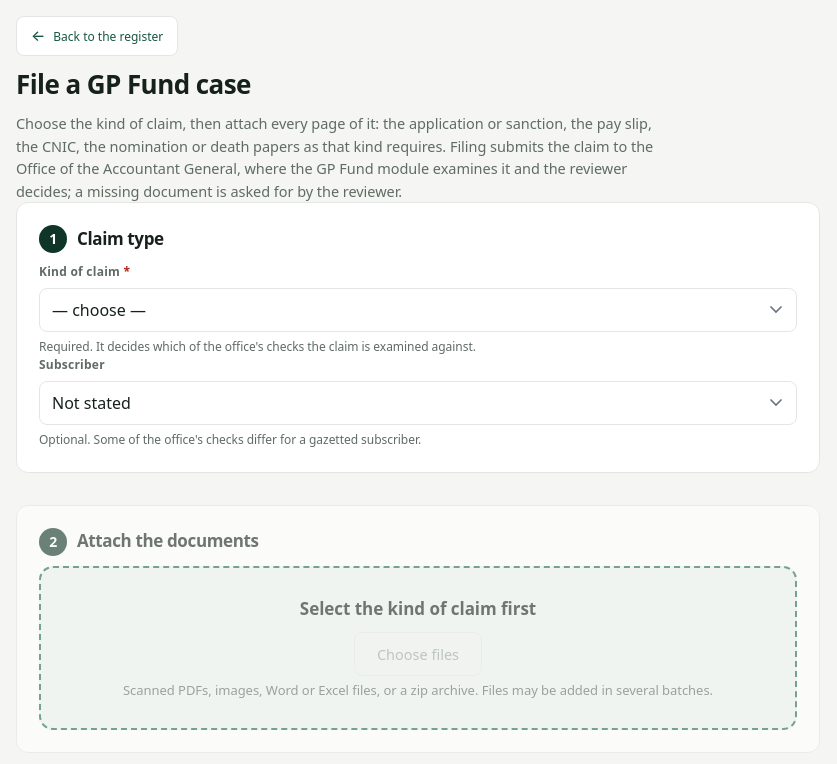
choosing the kind shows what the office checks it for › the list follows the subscriber, where the papers differ
Select "Missing credits" in the dropdown labelled "Kind of claim *" at [418, 310], box [39, 288, 797, 332]
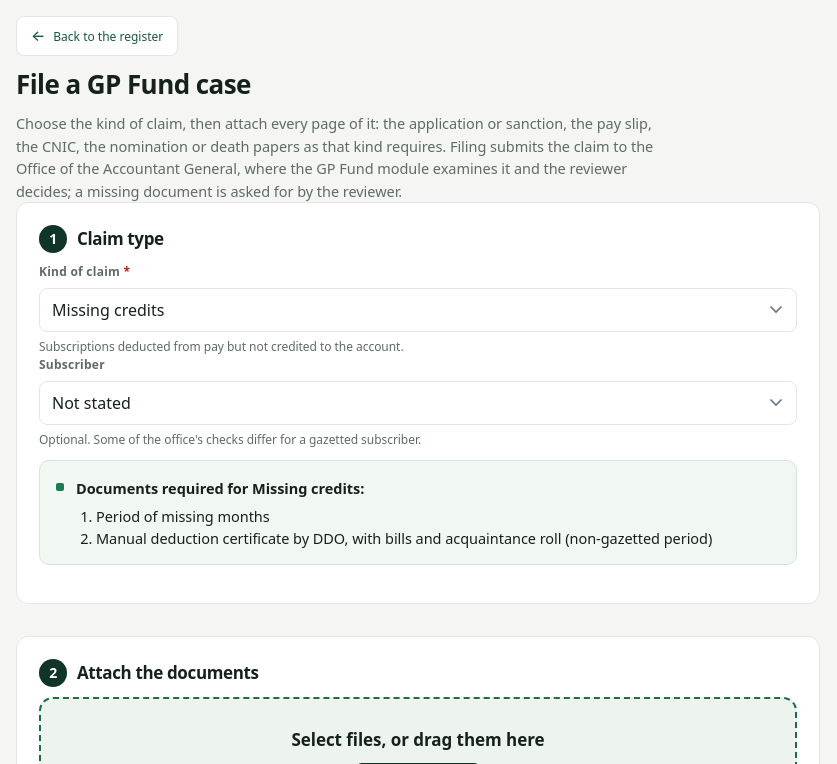
Expected: the list item "certificate by DDO" is shown, [96, 528, 712, 548]
Select "Gazetted" in the dropdown labelled "Subscriber" at [418, 403], box [39, 381, 797, 425]
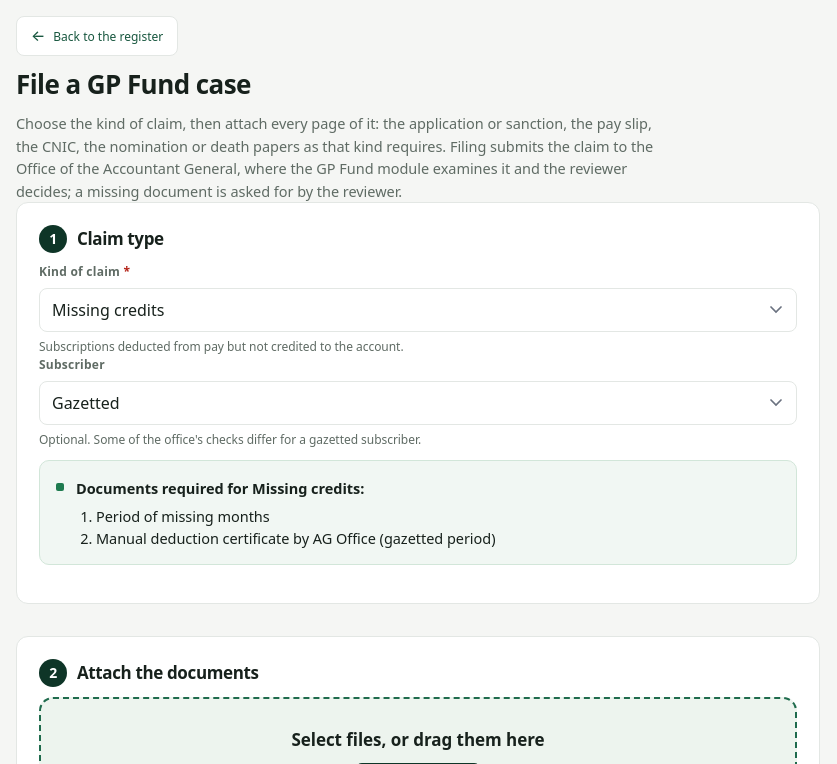
Expected: the list item "Manual deduction certificate by AG Office (gazetted period)" is shown, [96, 528, 496, 550]
Expected: the list item "certificate by DDO" is gone
